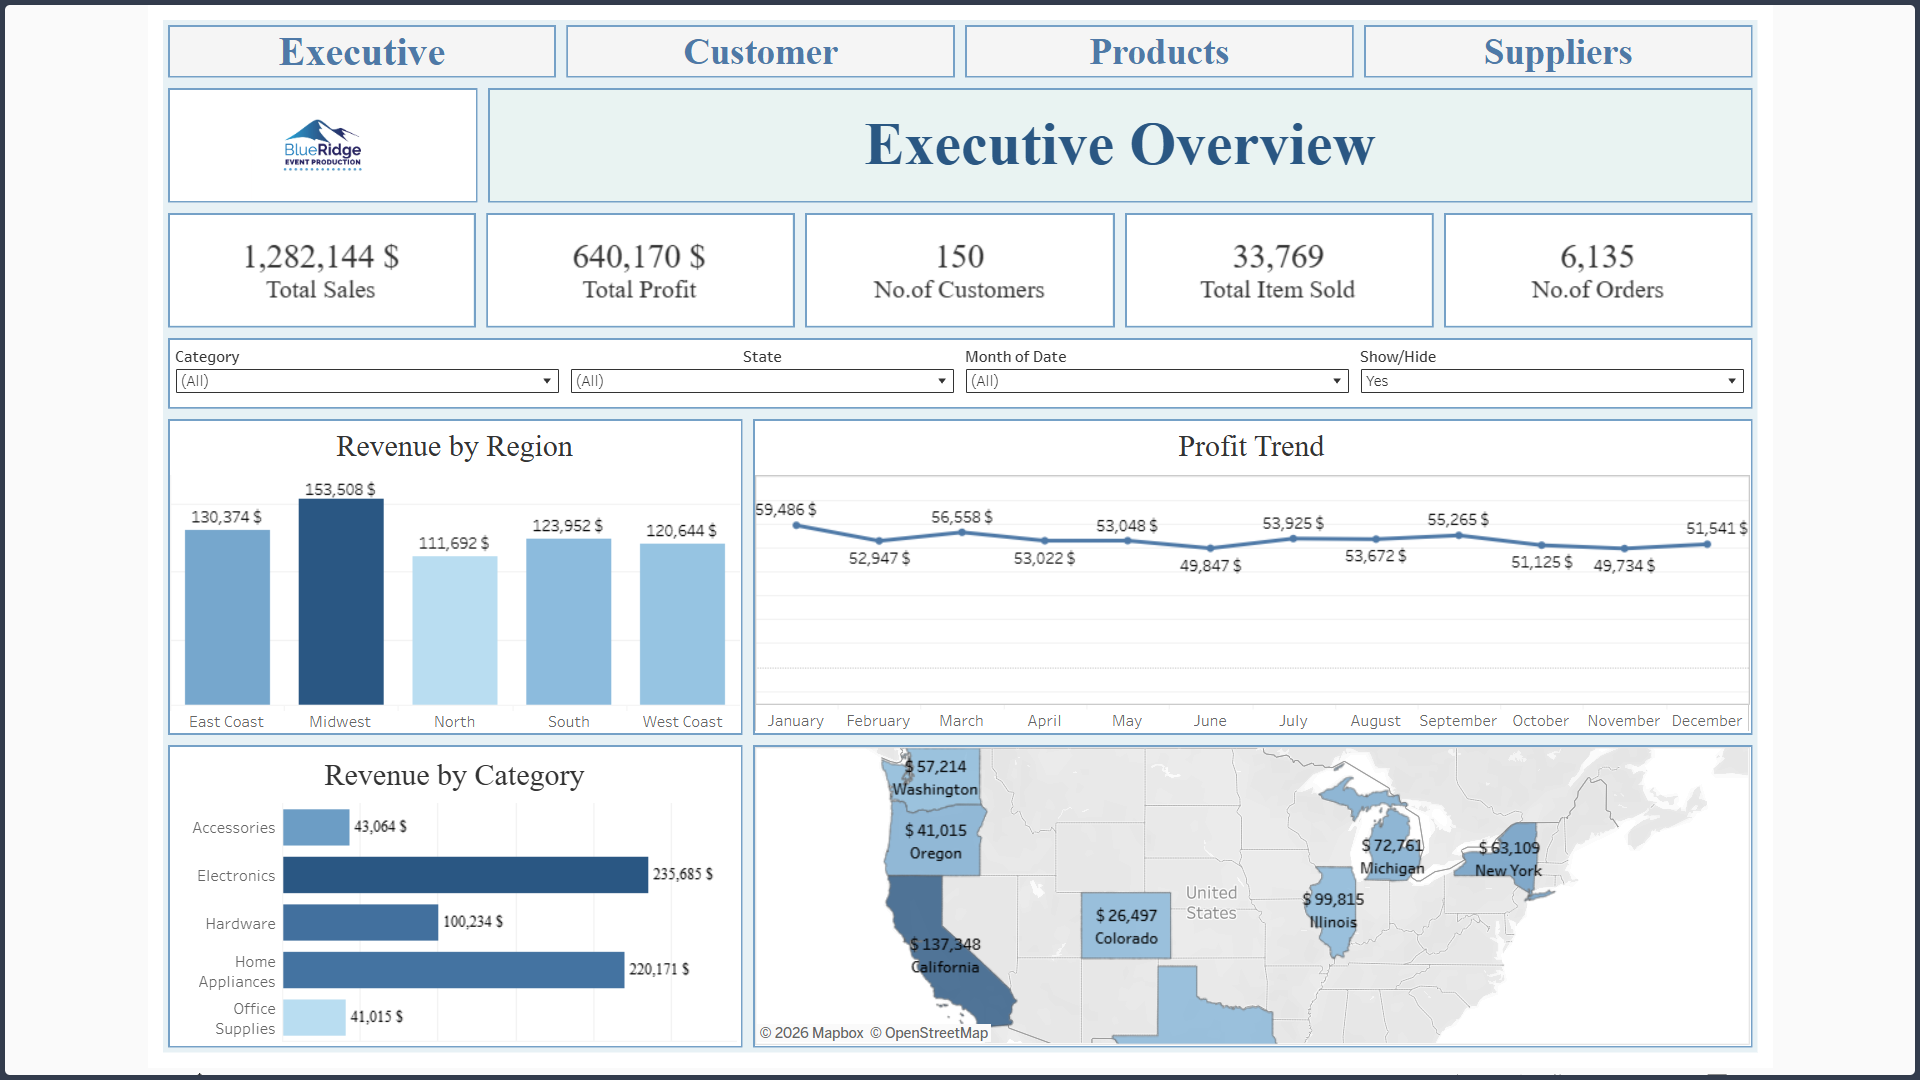

What the dashboard file says about the page in this screenshot:
{"tool":"tableau","page":{"name":"Executive ","canvas":[1300,850],"ordinal":1},"visuals":[{"type":"dashboard-object","box":[10,9,325,50]},{"type":"dashboard-object","box":[335,9,325,50]},{"type":"dashboard-object","box":[660,9,325,50]},{"type":"image","param":"E:/.Eng_Ahmed/Data Engineer/Tableua/day_1/lab1.png","box":[10,59,256,100]},{"type":"worksheet","title":"Total sales","mark":"Automatic","box":[10,159,260,100]},{"type":"worksheet","title":"Total profit","mark":"Automatic","box":[270,159,260,100]},{"type":"worksheet","title":"No.of Cust","mark":"Automatic","box":[530,159,260,100]},{"type":"worksheet","title":"total items","mark":"Automatic","box":[790,159,260,100]},{"type":"filter","title":"Revenue by Category","param":"[federated.0gzt13c13roajo1d21p27038xadh].[none:Category:nk]","box":[16,265,322,46]},{"type":"filter","title":"No. of Orders","param":"[federated.0gzt13c13roajo1d21p27038xadh].[none:State:nk]","box":[338,265,322,46]},{"type":"filter","title":"Profit Trend","param":"[federated.0gzt13c13roajo1d21p27038xadh].[mn:Date:ok]","box":[660,265,322,46]},{"type":"parameter","param":"[Parameters].[Parameter 2]","box":[982,265,322,46]},{"type":"worksheet","title":"Revenue by Region","mark":"Automatic","rows":["Calculation_1653159143706629"],"cols":["Region"],"box":[10,317,382,272]}]}

Visuals, with their boxes on the page's 1300x850 design canvas (x1, y1, x2, y2). These are canvas units, not pixel positions in the 1920x1080 screenshot, which may show the page scaled, cropped or inside an application window:
dashboard-object: select_region(10, 9, 335, 59)
dashboard-object: select_region(335, 9, 660, 59)
dashboard-object: select_region(660, 9, 985, 59)
image: select_region(10, 59, 266, 159)
"Total sales" worksheet: select_region(10, 159, 270, 259)
"Total profit" worksheet: select_region(270, 159, 530, 259)
"No.of Cust" worksheet: select_region(530, 159, 790, 259)
"total items" worksheet: select_region(790, 159, 1050, 259)
"Revenue by Category" filter: select_region(16, 265, 338, 311)
"No. of Orders" filter: select_region(338, 265, 660, 311)
"Profit Trend" filter: select_region(660, 265, 982, 311)
parameter: select_region(982, 265, 1304, 311)
"Revenue by Region" worksheet: select_region(10, 317, 392, 589)
